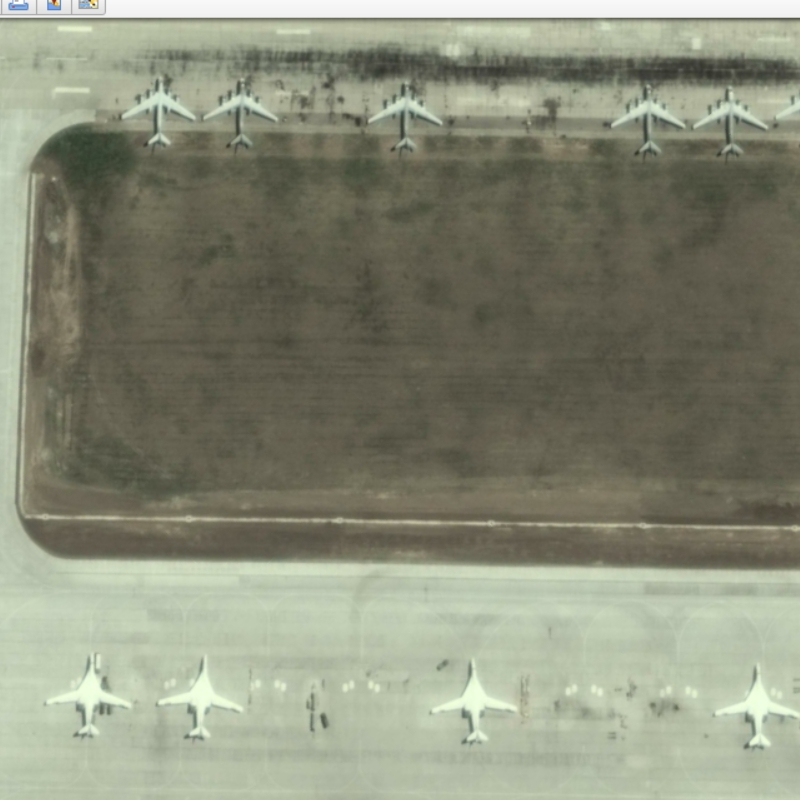A17: (200, 74, 281, 154), (118, 73, 198, 151), (607, 82, 689, 157), (692, 83, 771, 160), (364, 79, 445, 154)
A6: (425, 653, 522, 748), (154, 650, 247, 745), (40, 649, 135, 741), (709, 657, 800, 750)
